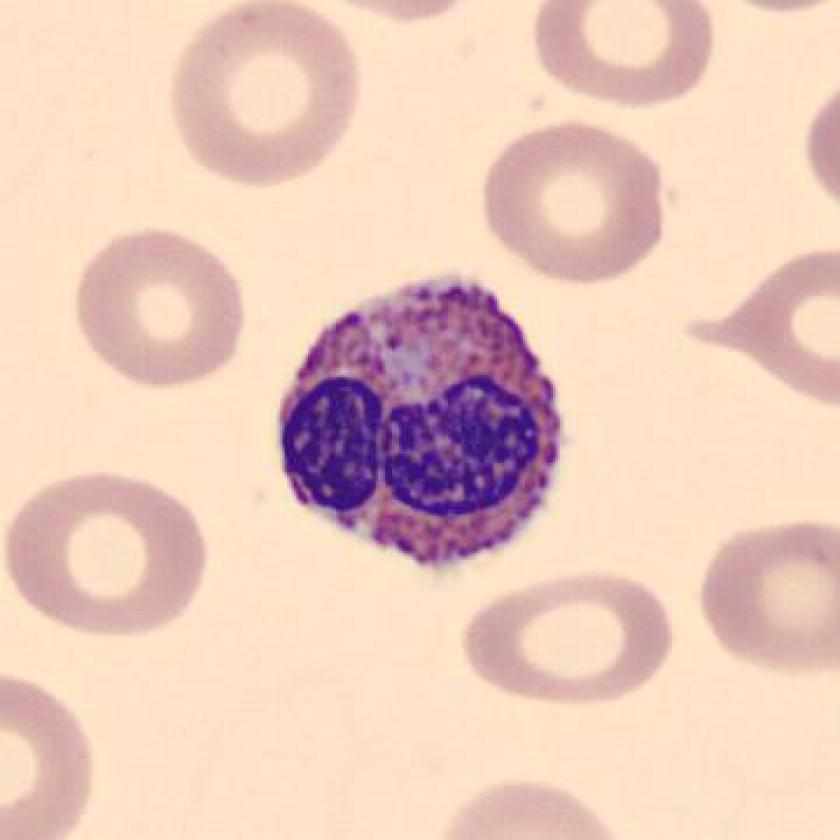eosinophil: (265, 270, 575, 587)
